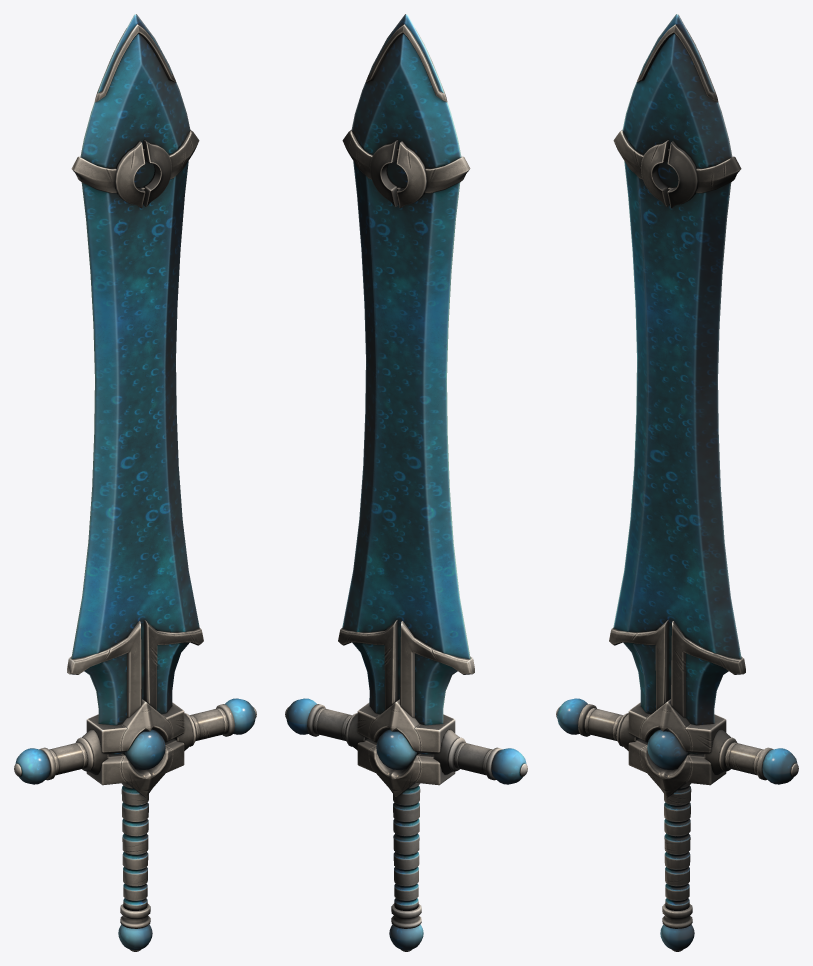
File: sm_sword_08.gltf
3 views of the same model, side by side, from view 1: azimuth 30°, elevation 25°; view 2: azimuth 150°, elevation 25°; view 3: azimuth 330°, elevation 25° (orthographic).
Visible parts, largest first — view 1: sm_sword_8; view 2: sm_sword_8; view 3: sm_sword_8.
Boxes of the visible parts, x1=… form: sm_sword_8: x1=14, y1=14, x2=256, y2=951; sm_sword_8: x1=285, y1=14, x2=527, y2=951; sm_sword_8: x1=556, y1=14, x2=798, y2=951.
Bounding box in the file's own units: 0.4006 × 1.49 × 0.1006.
1 material, 1 textured.
